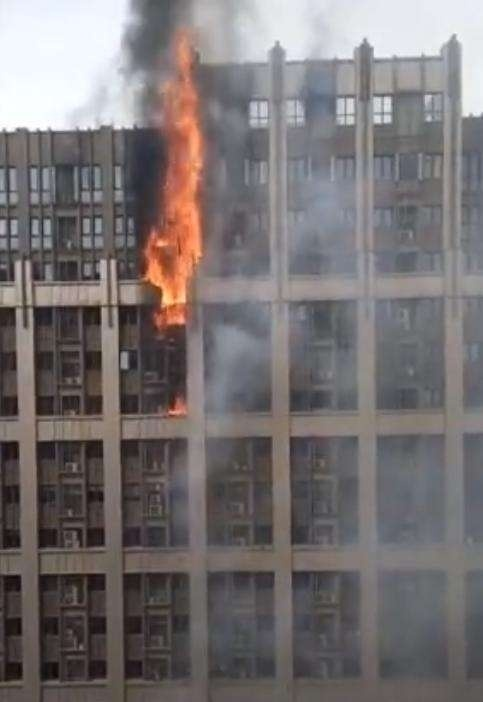fire: (144, 29, 210, 322), (162, 390, 188, 418)
